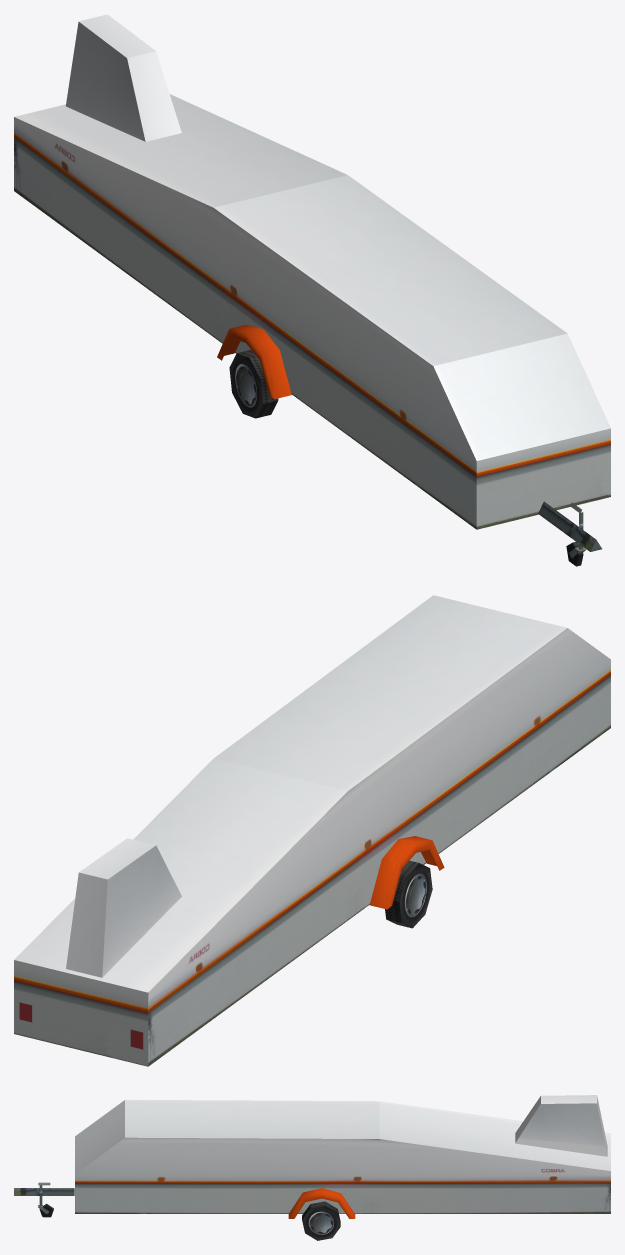
The model's file is glider-trailer-orange-9m-cbj_LOD02.gltf.
3 renders of one model, top to bottom at view 1: azimuth 30°, elevation 25°; view 2: azimuth 150°, elevation 25°; view 3: azimuth 270°, elevation 25°, orthographic. The views are drawn at different scales.
Parts seen in each view (by area): view 1: trailer02; view 2: trailer02; view 3: trailer02.
Part boxes in pixels (x1,y1,x2,y2): trailer02: (14, 14, 610, 566); trailer02: (14, 595, 610, 1066); trailer02: (14, 1095, 610, 1240).
Size of the model in its own units: 1.71 by 1.96 by 9.
